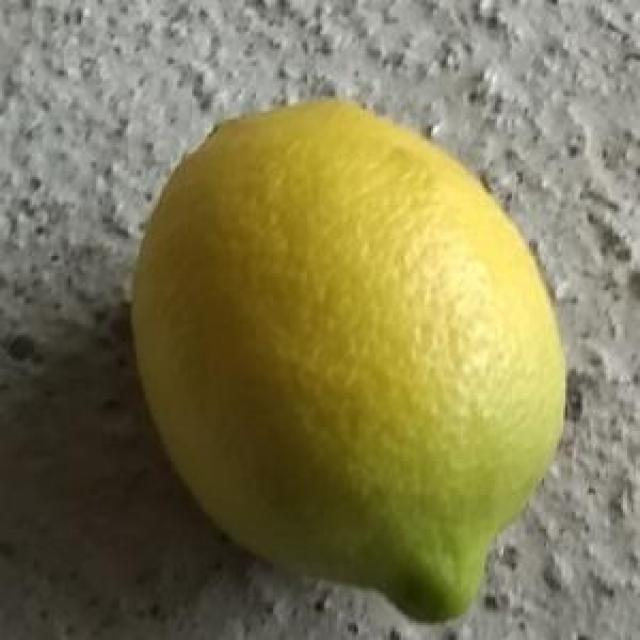lemon: (133, 97, 565, 629)
